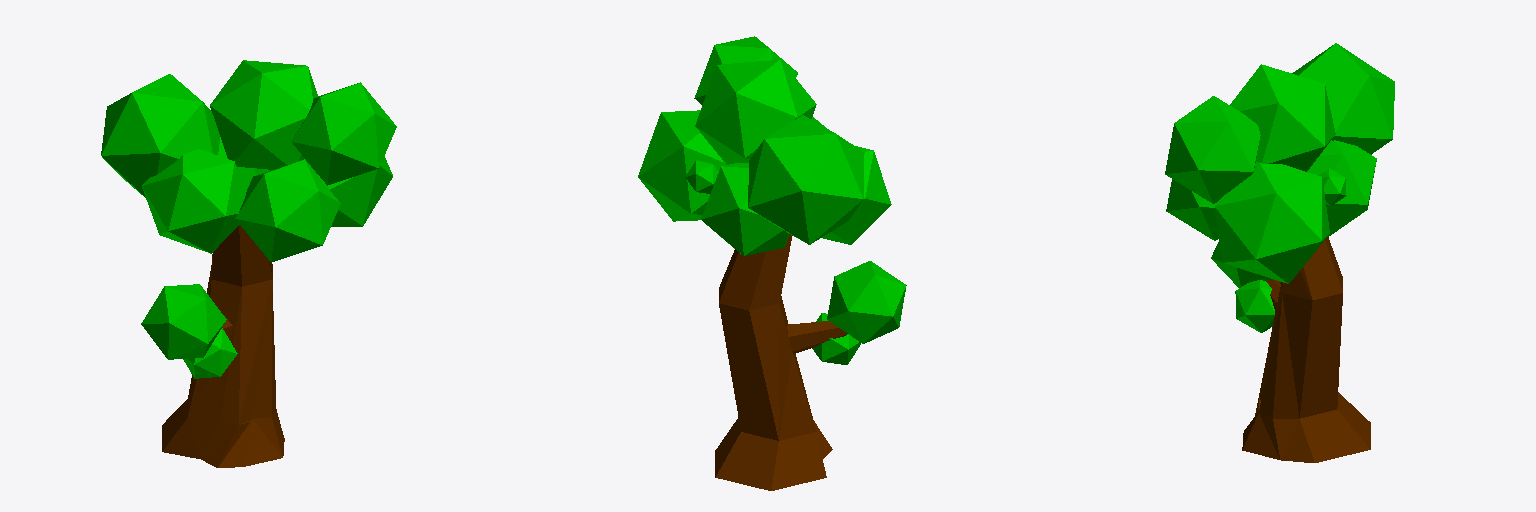
File: tree04.obj
The picture shows the model from 3 angles: view 1: azimuth 30°, elevation 25°; view 2: azimuth 150°, elevation 25°; view 3: azimuth 270°, elevation 25°; orthographic projection.
Visible parts, largest first — view 1: Mesh11, Mesh1, Mesh10, Mesh5, Mesh7, Mesh9, Mesh6, Mesh4, Mesh3; view 2: Mesh11, Mesh10, Mesh1, Mesh4, Mesh6, Mesh2, Mesh5, Mesh9, Mesh3, Mesh8; view 3: Mesh11, Mesh4, Mesh1, Mesh9, Mesh10, Mesh2, Mesh7, Mesh3, Mesh6, Mesh8.
Boxes of the visible parts, box(x1,y1,x2,y2) form: Mesh11: box(162, 225, 284, 467); Mesh1: box(210, 60, 317, 169); Mesh10: box(101, 74, 219, 197); Mesh5: box(142, 149, 245, 253); Mesh7: box(235, 159, 340, 262); Mesh9: box(291, 82, 396, 185); Mesh6: box(141, 284, 226, 359); Mesh4: box(270, 156, 392, 226); Mesh3: box(183, 328, 237, 378); Mesh11: box(715, 234, 847, 490); Mesh10: box(748, 115, 864, 244); Mesh1: box(695, 60, 816, 164); Mesh4: box(638, 110, 725, 221); Mesh6: box(827, 261, 906, 343); Mesh2: box(701, 163, 789, 255); Mesh5: box(822, 146, 891, 244); Mesh9: box(694, 36, 797, 104); Mesh3: box(812, 313, 860, 364); Mesh8: box(685, 160, 718, 193); Mesh11: box(1242, 237, 1370, 462); Mesh4: box(1215, 161, 1329, 283); Mesh1: box(1230, 64, 1335, 171); Mesh9: box(1165, 96, 1260, 203); Mesh10: box(1292, 43, 1394, 154); Mesh2: box(1307, 140, 1376, 236); Mesh7: box(1166, 179, 1219, 240); Mesh3: box(1235, 280, 1274, 332); Mesh6: box(1211, 241, 1271, 287); Mesh8: box(1318, 168, 1346, 205).
Size of the model in its own units: 30.23 by 43.84 by 24.04.